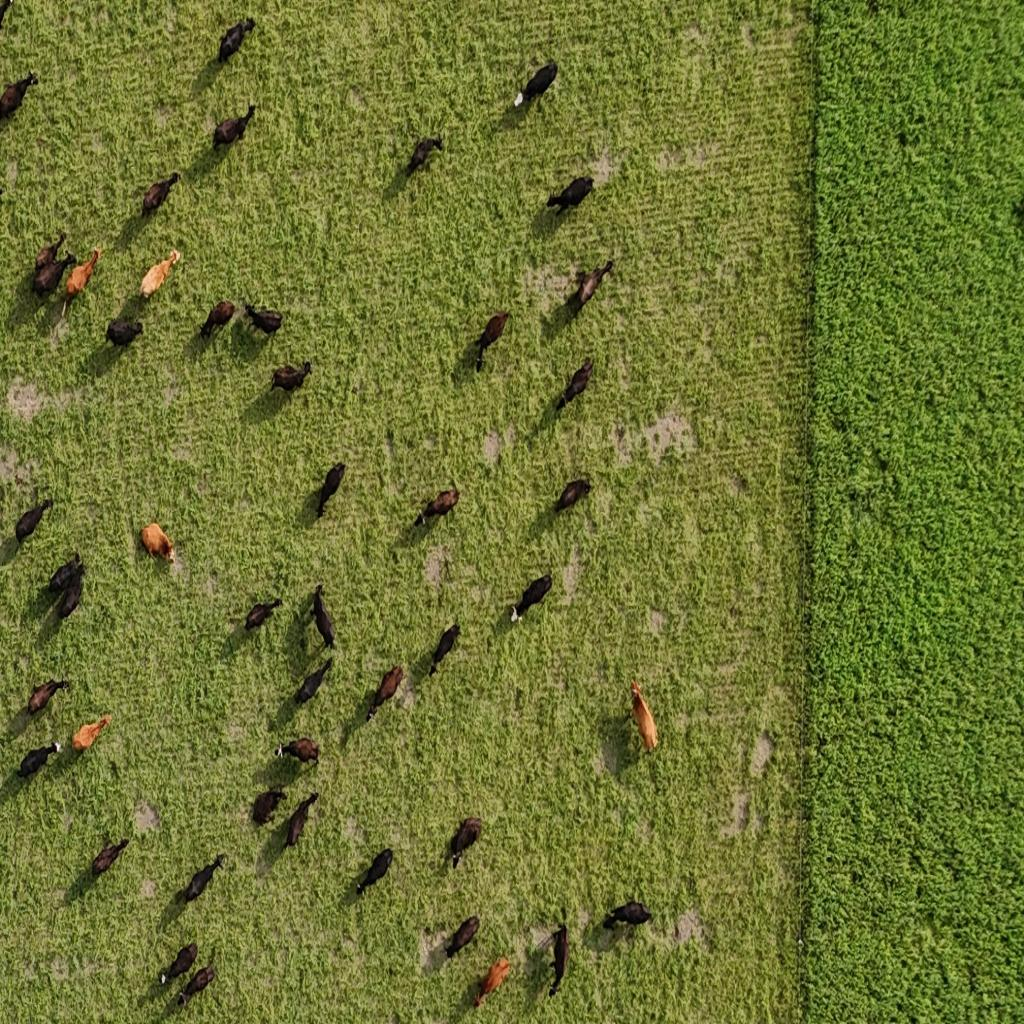cow: (544, 174, 600, 236), (24, 228, 69, 296), (62, 247, 102, 320), (565, 258, 612, 320), (602, 897, 653, 947), (510, 572, 554, 628), (513, 59, 557, 113), (474, 310, 511, 372), (630, 680, 659, 756), (541, 922, 569, 1000), (139, 251, 181, 300), (183, 854, 225, 903), (18, 737, 65, 780), (175, 964, 217, 1012), (368, 665, 404, 720), (158, 940, 198, 989), (556, 362, 592, 416), (474, 955, 510, 1009), (414, 489, 460, 531), (212, 105, 254, 151), (354, 848, 394, 896), (286, 790, 320, 846), (0, 72, 37, 123), (144, 171, 183, 217), (16, 498, 53, 546), (296, 658, 332, 707), (406, 132, 446, 176), (430, 623, 462, 677), (27, 676, 70, 716), (218, 17, 255, 63), (311, 584, 336, 652), (450, 816, 482, 868), (316, 462, 345, 519), (444, 915, 479, 962), (92, 835, 130, 878), (48, 554, 85, 596), (199, 300, 235, 342), (140, 522, 176, 564), (251, 786, 288, 826), (73, 714, 111, 752), (244, 302, 284, 338), (554, 478, 592, 514), (271, 360, 312, 393), (277, 737, 321, 767), (245, 598, 283, 631), (105, 318, 144, 350), (49, 591, 82, 625), (0, 0, 18, 38), (412, 504, 436, 532)
